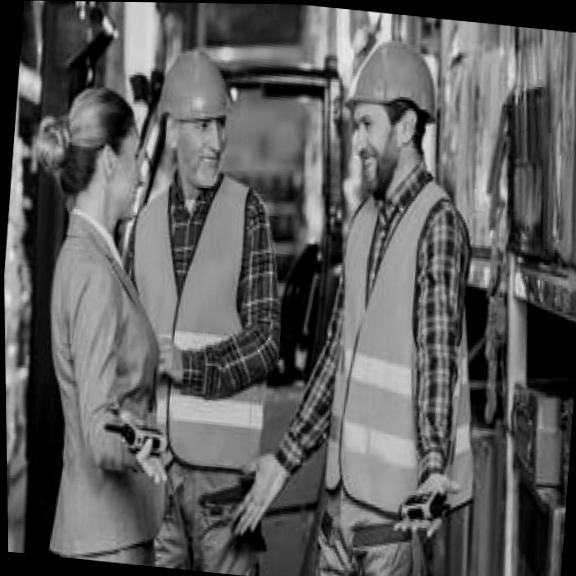no_safety_vest: (26, 214, 182, 532)
safety_vest: (301, 163, 509, 529), (101, 159, 293, 476)
